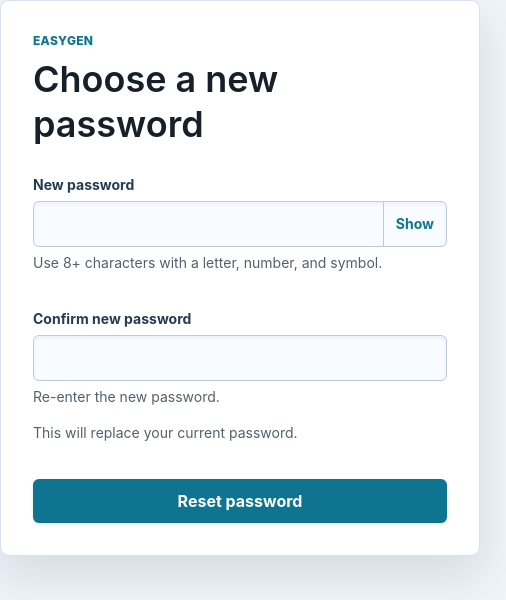
Test: ResetPasswordPage › reveals and hides both reset password fields without submitting
In the password field labelled "New password": (208, 224) [34, 202, 383, 246], type "NewPassword1!"
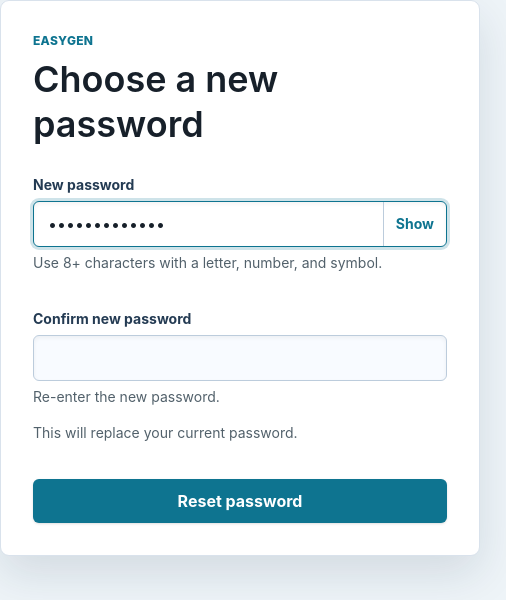
In the password field labelled "Confirm new password": (240, 358) [34, 336, 446, 380], type "NewPassword1!"
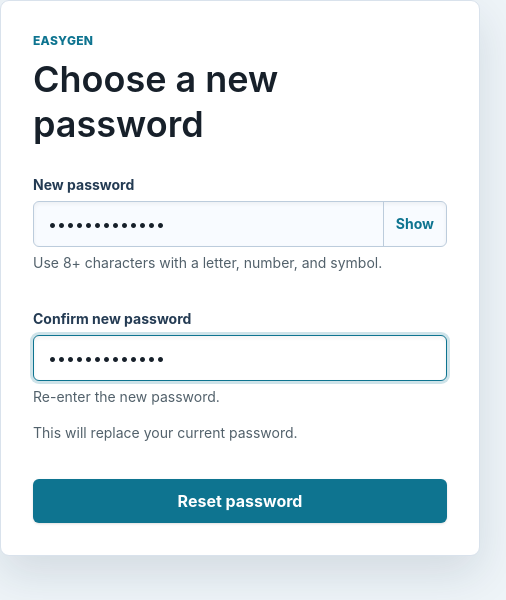
Click the button with aria-label "Show password": click(414, 224) [383, 202, 446, 246]
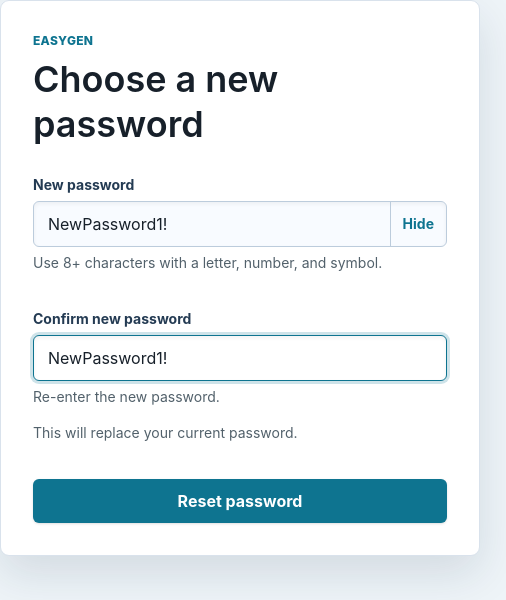
Check: the field labelled "New password" shows its text, box [34, 202, 390, 246]
Check: the field labelled "Confirm new password" shows its text, box [34, 336, 446, 380]
Check: the button with aria-label "Hide password" is shown
Click the button with aria-label "Hide password": click(418, 224) [390, 202, 446, 246]
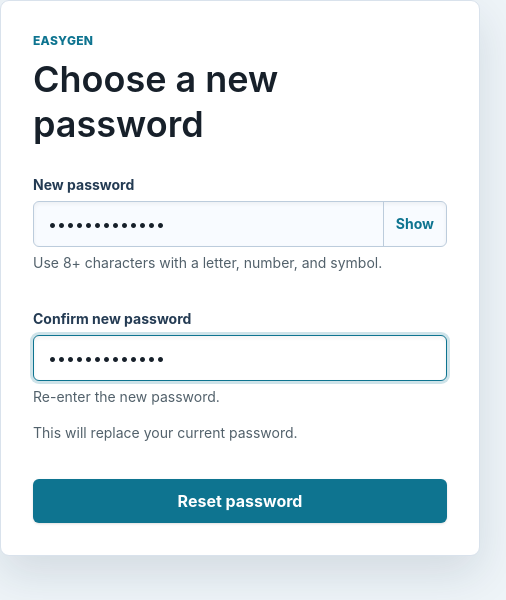
Check: the password field labelled "New password" hides its text, box [34, 202, 383, 246]
Check: the password field labelled "Confirm new password" hides its text, box [34, 336, 446, 380]
